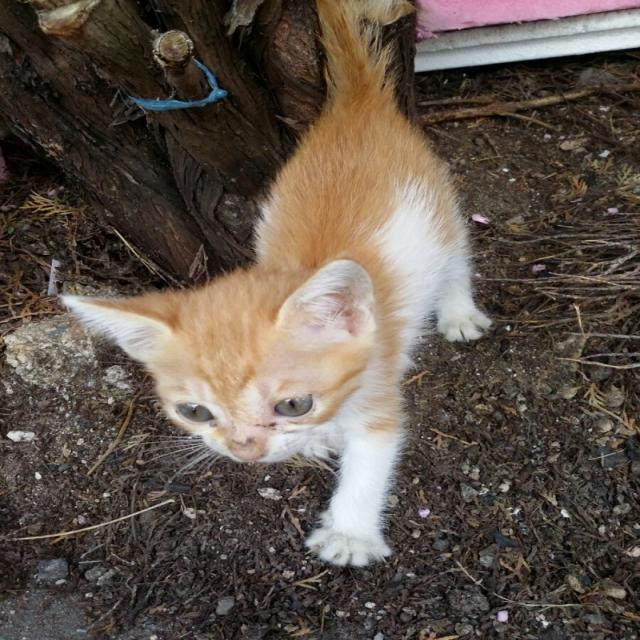cat: (79, 0, 508, 619)
